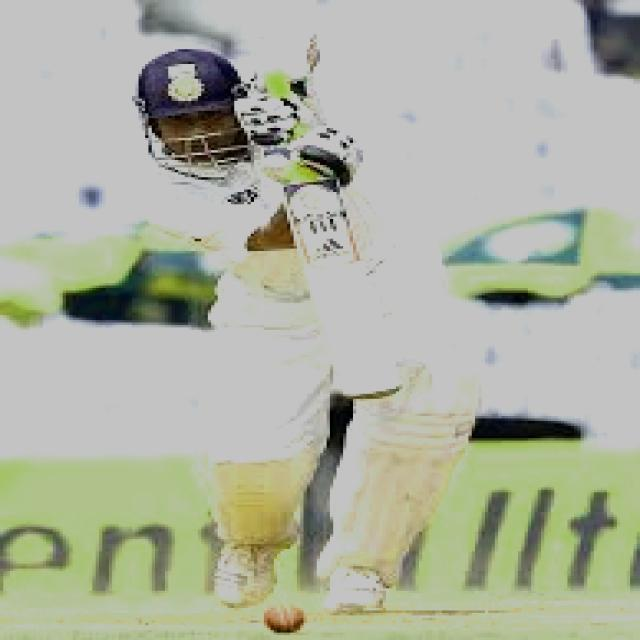bat: (280, 186, 408, 414)
toe: (335, 386, 406, 409)
